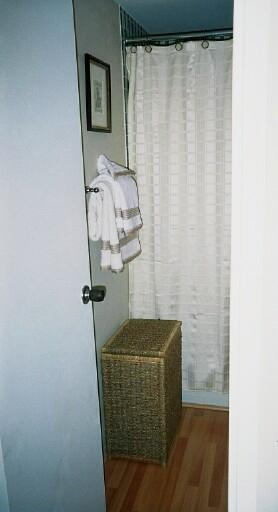Ducha: (129, 41, 227, 402)
Otro Obstaculo: (107, 319, 183, 466)
Puerta: (3, 3, 107, 508)
